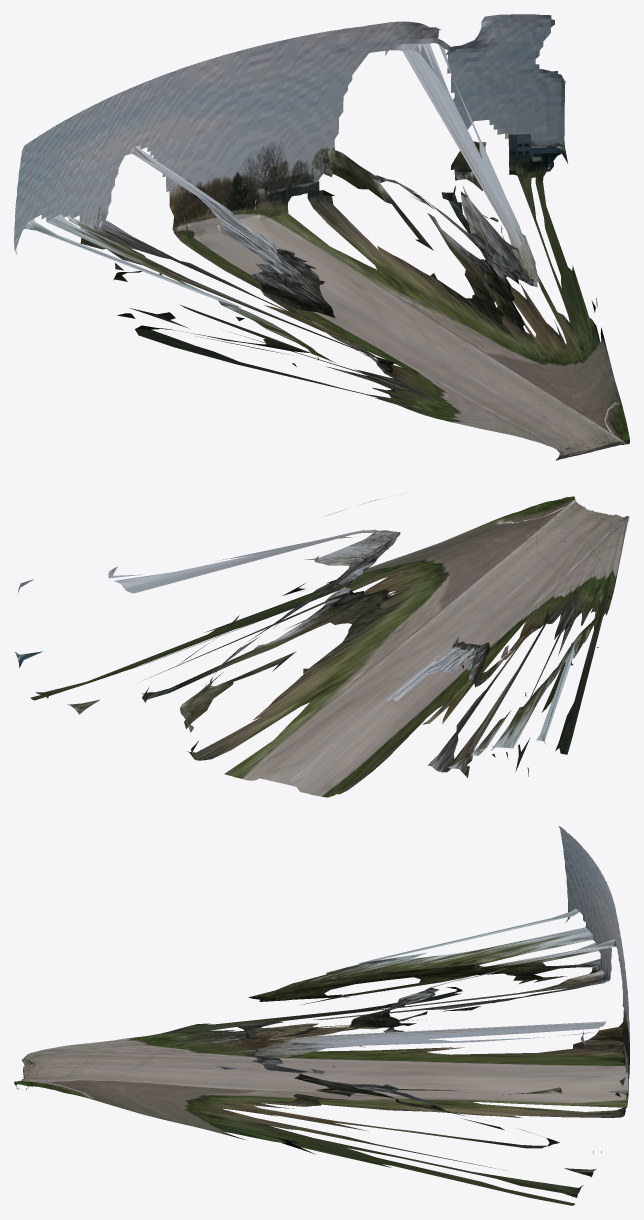
3 views of the same model, one above another, from view 1: azimuth 30°, elevation 25°; view 2: azimuth 150°, elevation 25°; view 3: azimuth 270°, elevation 25° (orthographic). The views are drawn at different scales.
Visible parts, largest first — view 1: defaultobject; view 2: defaultobject; view 3: defaultobject.
Part boxes in pixels (x1=…): defaultobject: x1=14, y1=14, x2=629, y2=460; defaultobject: x1=15, y1=494, x2=629, y2=797; defaultobject: x1=14, y1=826, x2=629, y2=1205.
Size of the model in its own units: 41.14 by 12.99 by 44.77.
Materials: 1 (1 with a texture image).
